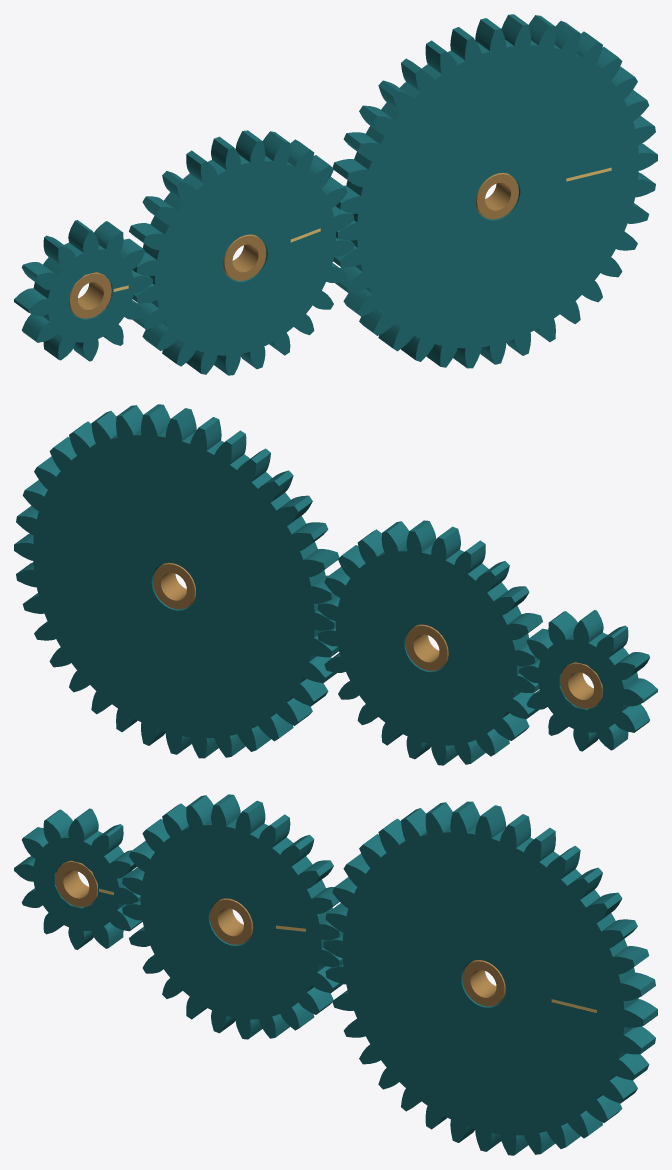
Rendered from VLAB_gear_set.fbx.
The picture shows the model from 3 angles, top to bottom: view 1: azimuth 30°, elevation 25°; view 2: azimuth 150°, elevation 25°; view 3: azimuth 330°, elevation 25°; orthographic projection.
Visible parts, largest first — view 1: VLAB_gear_set_Gear36_VIS, VLAB_gear_set_Gear24_VIS, VLAB_gear_set_Gear12_VIS, VLAB_gear_set_Bore24_VIS, VLAB_gear_set_Bore36_VIS, VLAB_gear_set_Bore_VIS; view 2: VLAB_gear_set_Gear36_VIS, VLAB_gear_set_Gear24_VIS, VLAB_gear_set_Gear12_VIS, VLAB_gear_set_Bore24_VIS, VLAB_gear_set_Bore36_VIS, VLAB_gear_set_Bore_VIS; view 3: VLAB_gear_set_Gear36_VIS, VLAB_gear_set_Gear24_VIS, VLAB_gear_set_Gear12_VIS, VLAB_gear_set_Bore36_VIS, VLAB_gear_set_Bore24_VIS, VLAB_gear_set_Bore_VIS.
Boxes of the visible parts, box(x1,y1,x2,y2) form: VLAB_gear_set_Gear36_VIS: box(332, 14, 657, 368); VLAB_gear_set_Gear24_VIS: box(129, 130, 354, 375); VLAB_gear_set_Gear12_VIS: box(14, 220, 152, 361); VLAB_gear_set_Bore24_VIS: box(223, 234, 266, 280); VLAB_gear_set_Bore36_VIS: box(476, 172, 518, 219); VLAB_gear_set_Bore_VIS: box(69, 272, 111, 318); VLAB_gear_set_Gear36_VIS: box(14, 404, 339, 758); VLAB_gear_set_Gear24_VIS: box(317, 520, 542, 765); VLAB_gear_set_Gear12_VIS: box(519, 610, 657, 751); VLAB_gear_set_Bore24_VIS: box(405, 624, 448, 670); VLAB_gear_set_Bore36_VIS: box(153, 562, 195, 609); VLAB_gear_set_Bore_VIS: box(560, 662, 602, 708); VLAB_gear_set_Gear36_VIS: box(323, 801, 657, 1155); VLAB_gear_set_Gear24_VIS: box(122, 794, 343, 1039); VLAB_gear_set_Gear12_VIS: box(14, 808, 142, 949); VLAB_gear_set_Bore36_VIS: box(462, 960, 505, 1006); VLAB_gear_set_Bore24_VIS: box(210, 898, 253, 944); VLAB_gear_set_Bore_VIS: box(55, 860, 97, 907).
Size of the model in its own units: 0.1495 by 0.076 by 0.00602.
